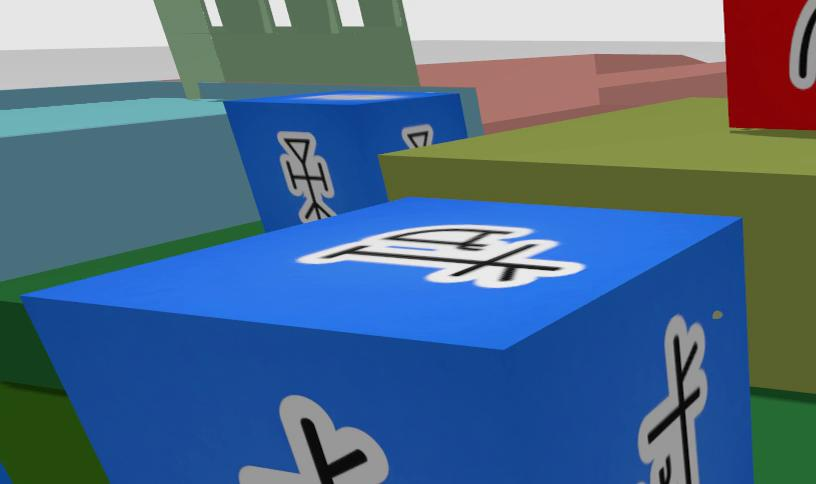KFS_FAKE: (724, 0, 816, 129), (788, 0, 816, 89)
KFS_REAL: (26, 197, 752, 484), (226, 90, 466, 230), (299, 224, 585, 287), (239, 396, 388, 484), (638, 315, 706, 484), (277, 132, 336, 222)
